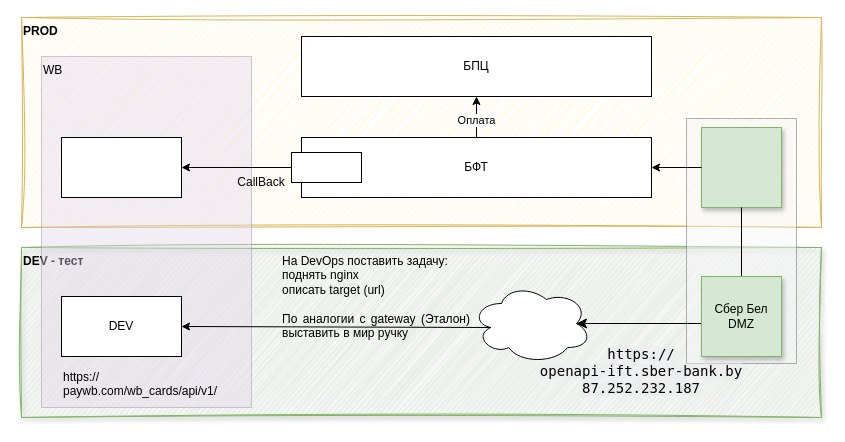
This 845x442 diagram has some shape labels left out. The centre of each missing label's shape, as x and y in pixels:
"Internet" goes at [531,323].
"PROD ДЦ" goes at [121,167].
"Сбер Бел" goes at [742,168].
"Серые IP" goes at [326,167].
